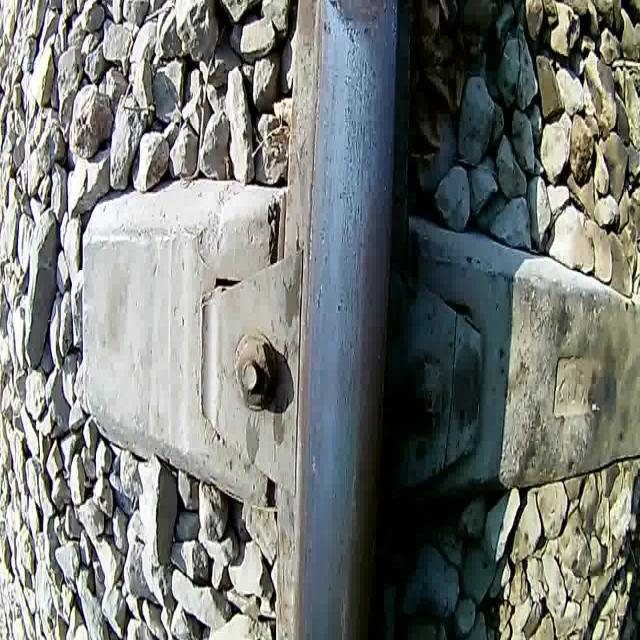Squats: (320, 0, 393, 52)
